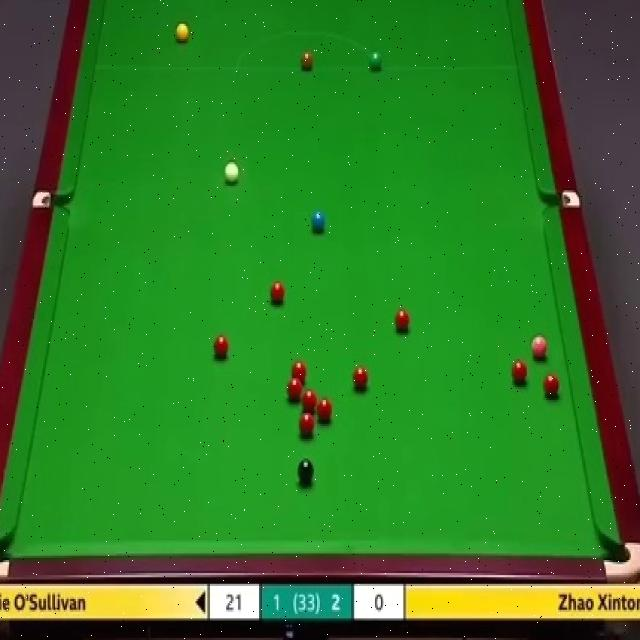black-ball: (297, 458, 314, 486)
blue-ball: (310, 208, 326, 232)
brown-ball: (300, 49, 314, 72)
green-ball: (370, 52, 382, 70)
pink-ball: (531, 333, 548, 361)
red-ball: (212, 333, 231, 362), (316, 398, 334, 425), (512, 359, 530, 385), (352, 364, 369, 390), (269, 281, 286, 305), (544, 373, 560, 398), (299, 413, 314, 438), (394, 309, 409, 333), (290, 360, 308, 378), (301, 392, 319, 410), (287, 376, 302, 394)
white-ball: (223, 158, 240, 184)
yellow-ball: (176, 23, 190, 45)
